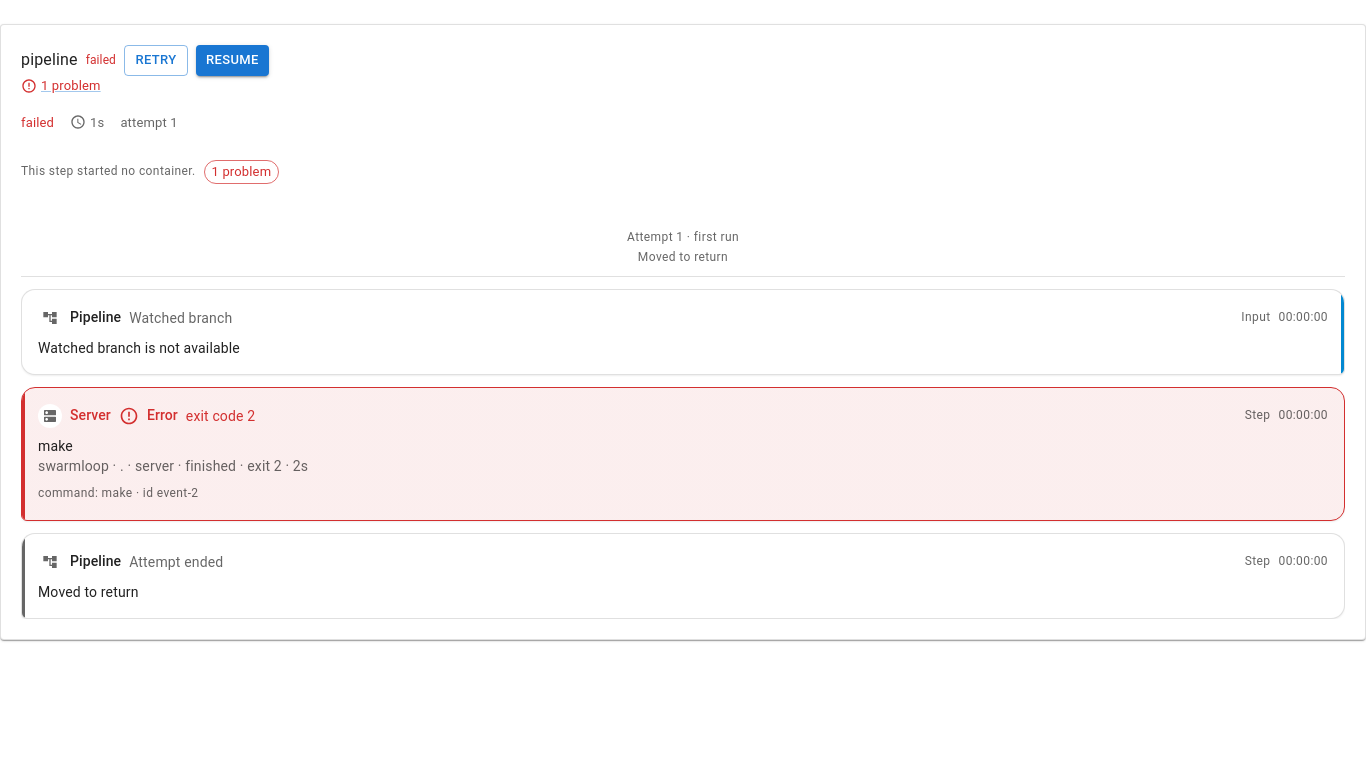
Test case: StepDetail › shows a failed server step with one filled action, tooltips, no agent numbers and a plain divider
The image size is (1366, 768).
Hover over the button "Resume" at (232, 60), box x1=196 y1=45 x2=269 y2=76
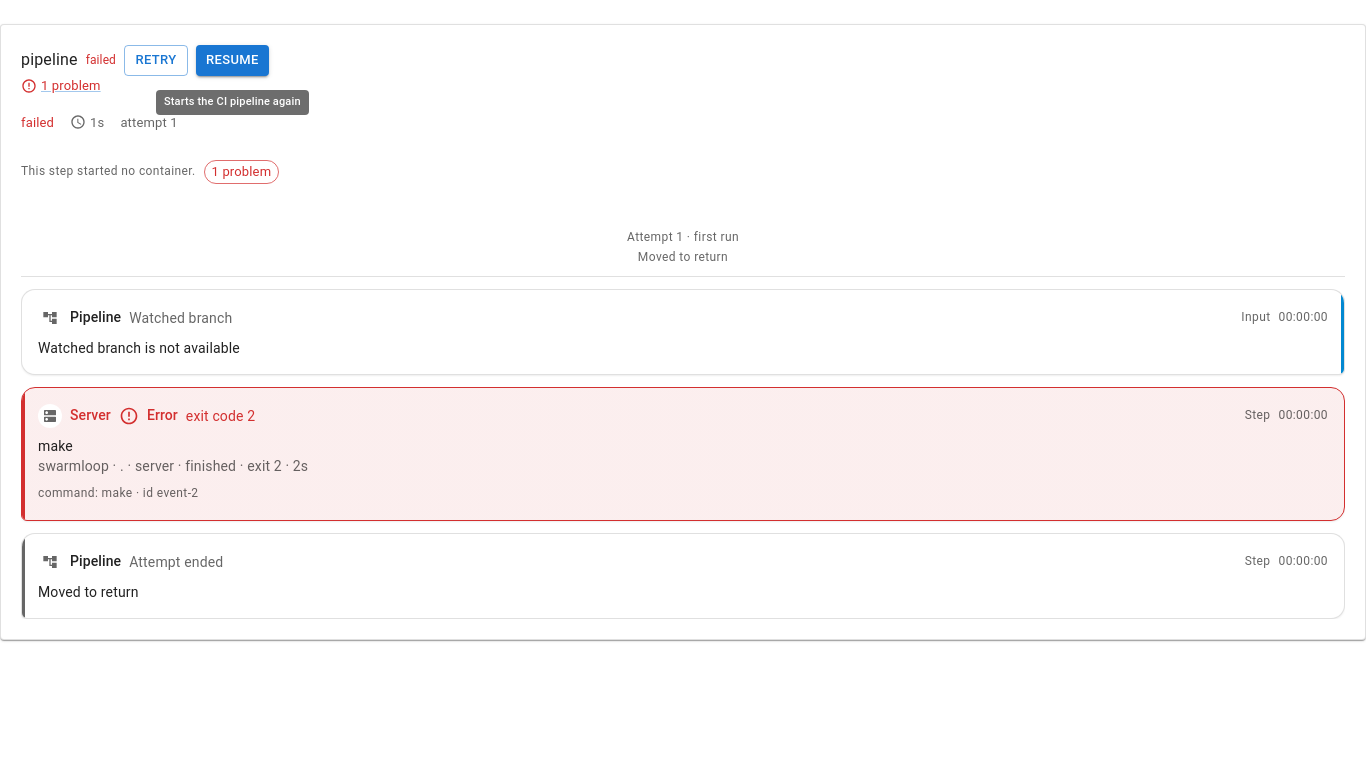
Result: the text "Starts the CI pipeline again" is shown at x1=156 y1=90 x2=309 y2=114
Hover over the button "Retry" at (156, 60), box x1=124 y1=45 x2=188 y2=76
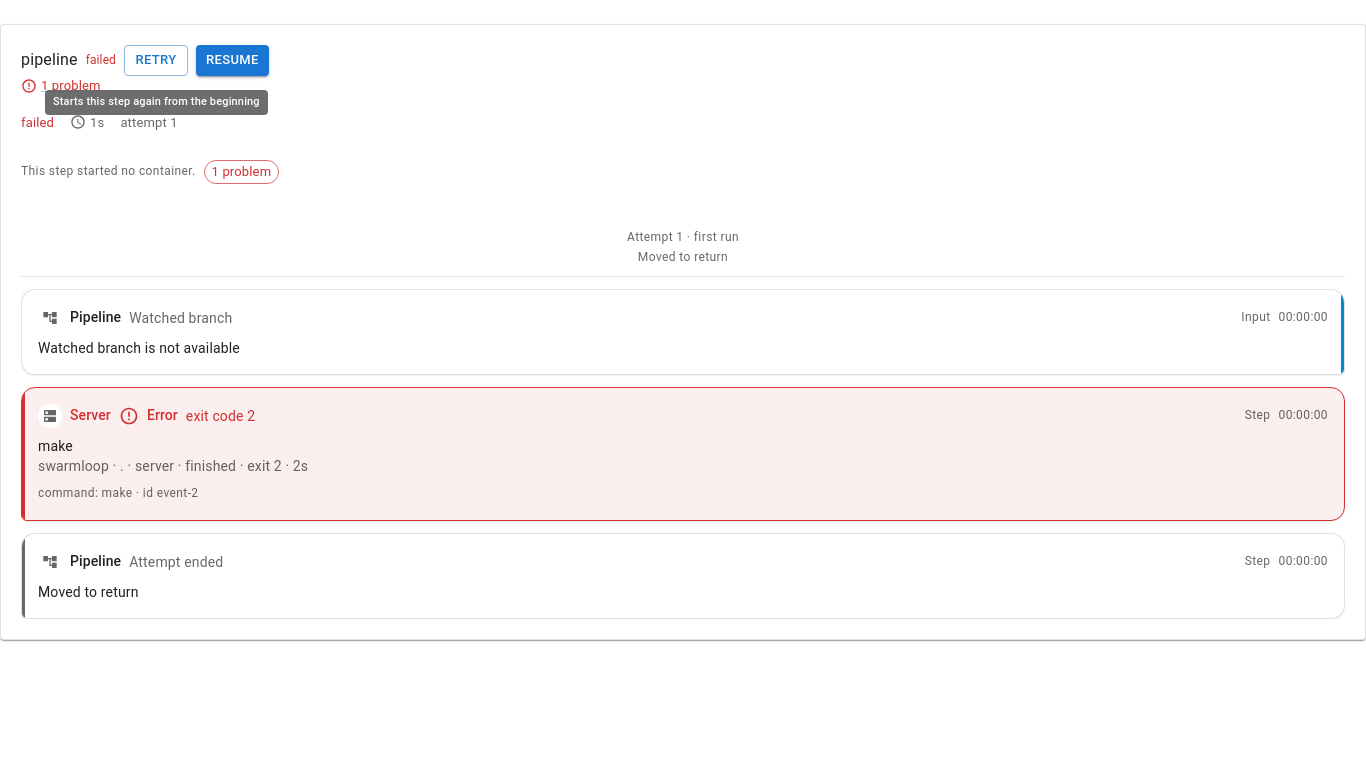
Result: the text "Starts this step again from the beginning" is shown at x1=45 y1=90 x2=268 y2=114
Result: the text "Starts the CI pipeline again" is gone
